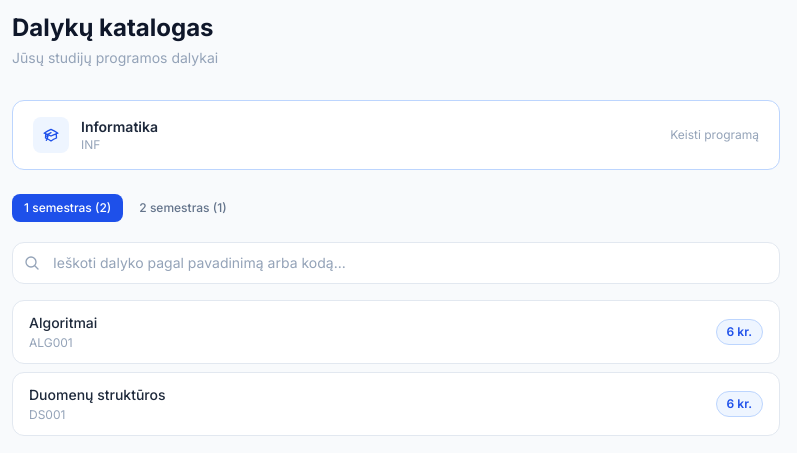
SubjectsCatalogPage: paieška › paieška filtruoja dalykus pagal pavadinimą
Expected: the text "Algoritmai" is shown, [29,313,97,333]
Type "Algorit" into the field with placeholder "Ieškoti dalyko pagal pavadinimą arba kodą..." at point(396, 263), box [12,242,780,284]
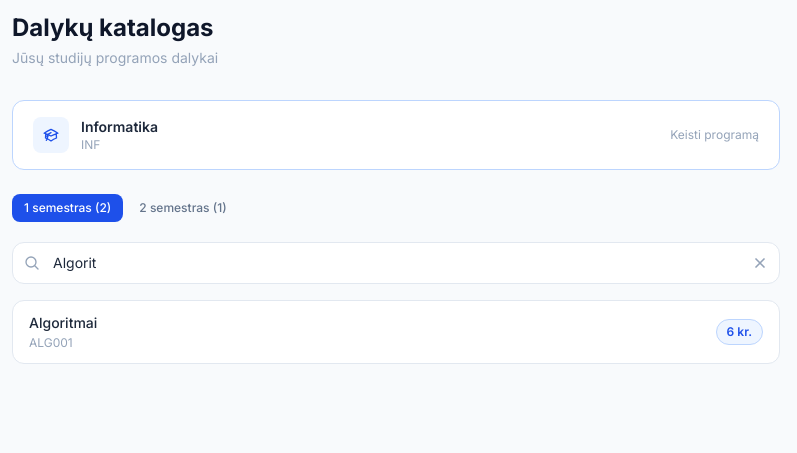
Expected: the text "Algoritmai" is shown, [29,313,97,333]
Expected: the text "Duomenų struktūros" is gone
